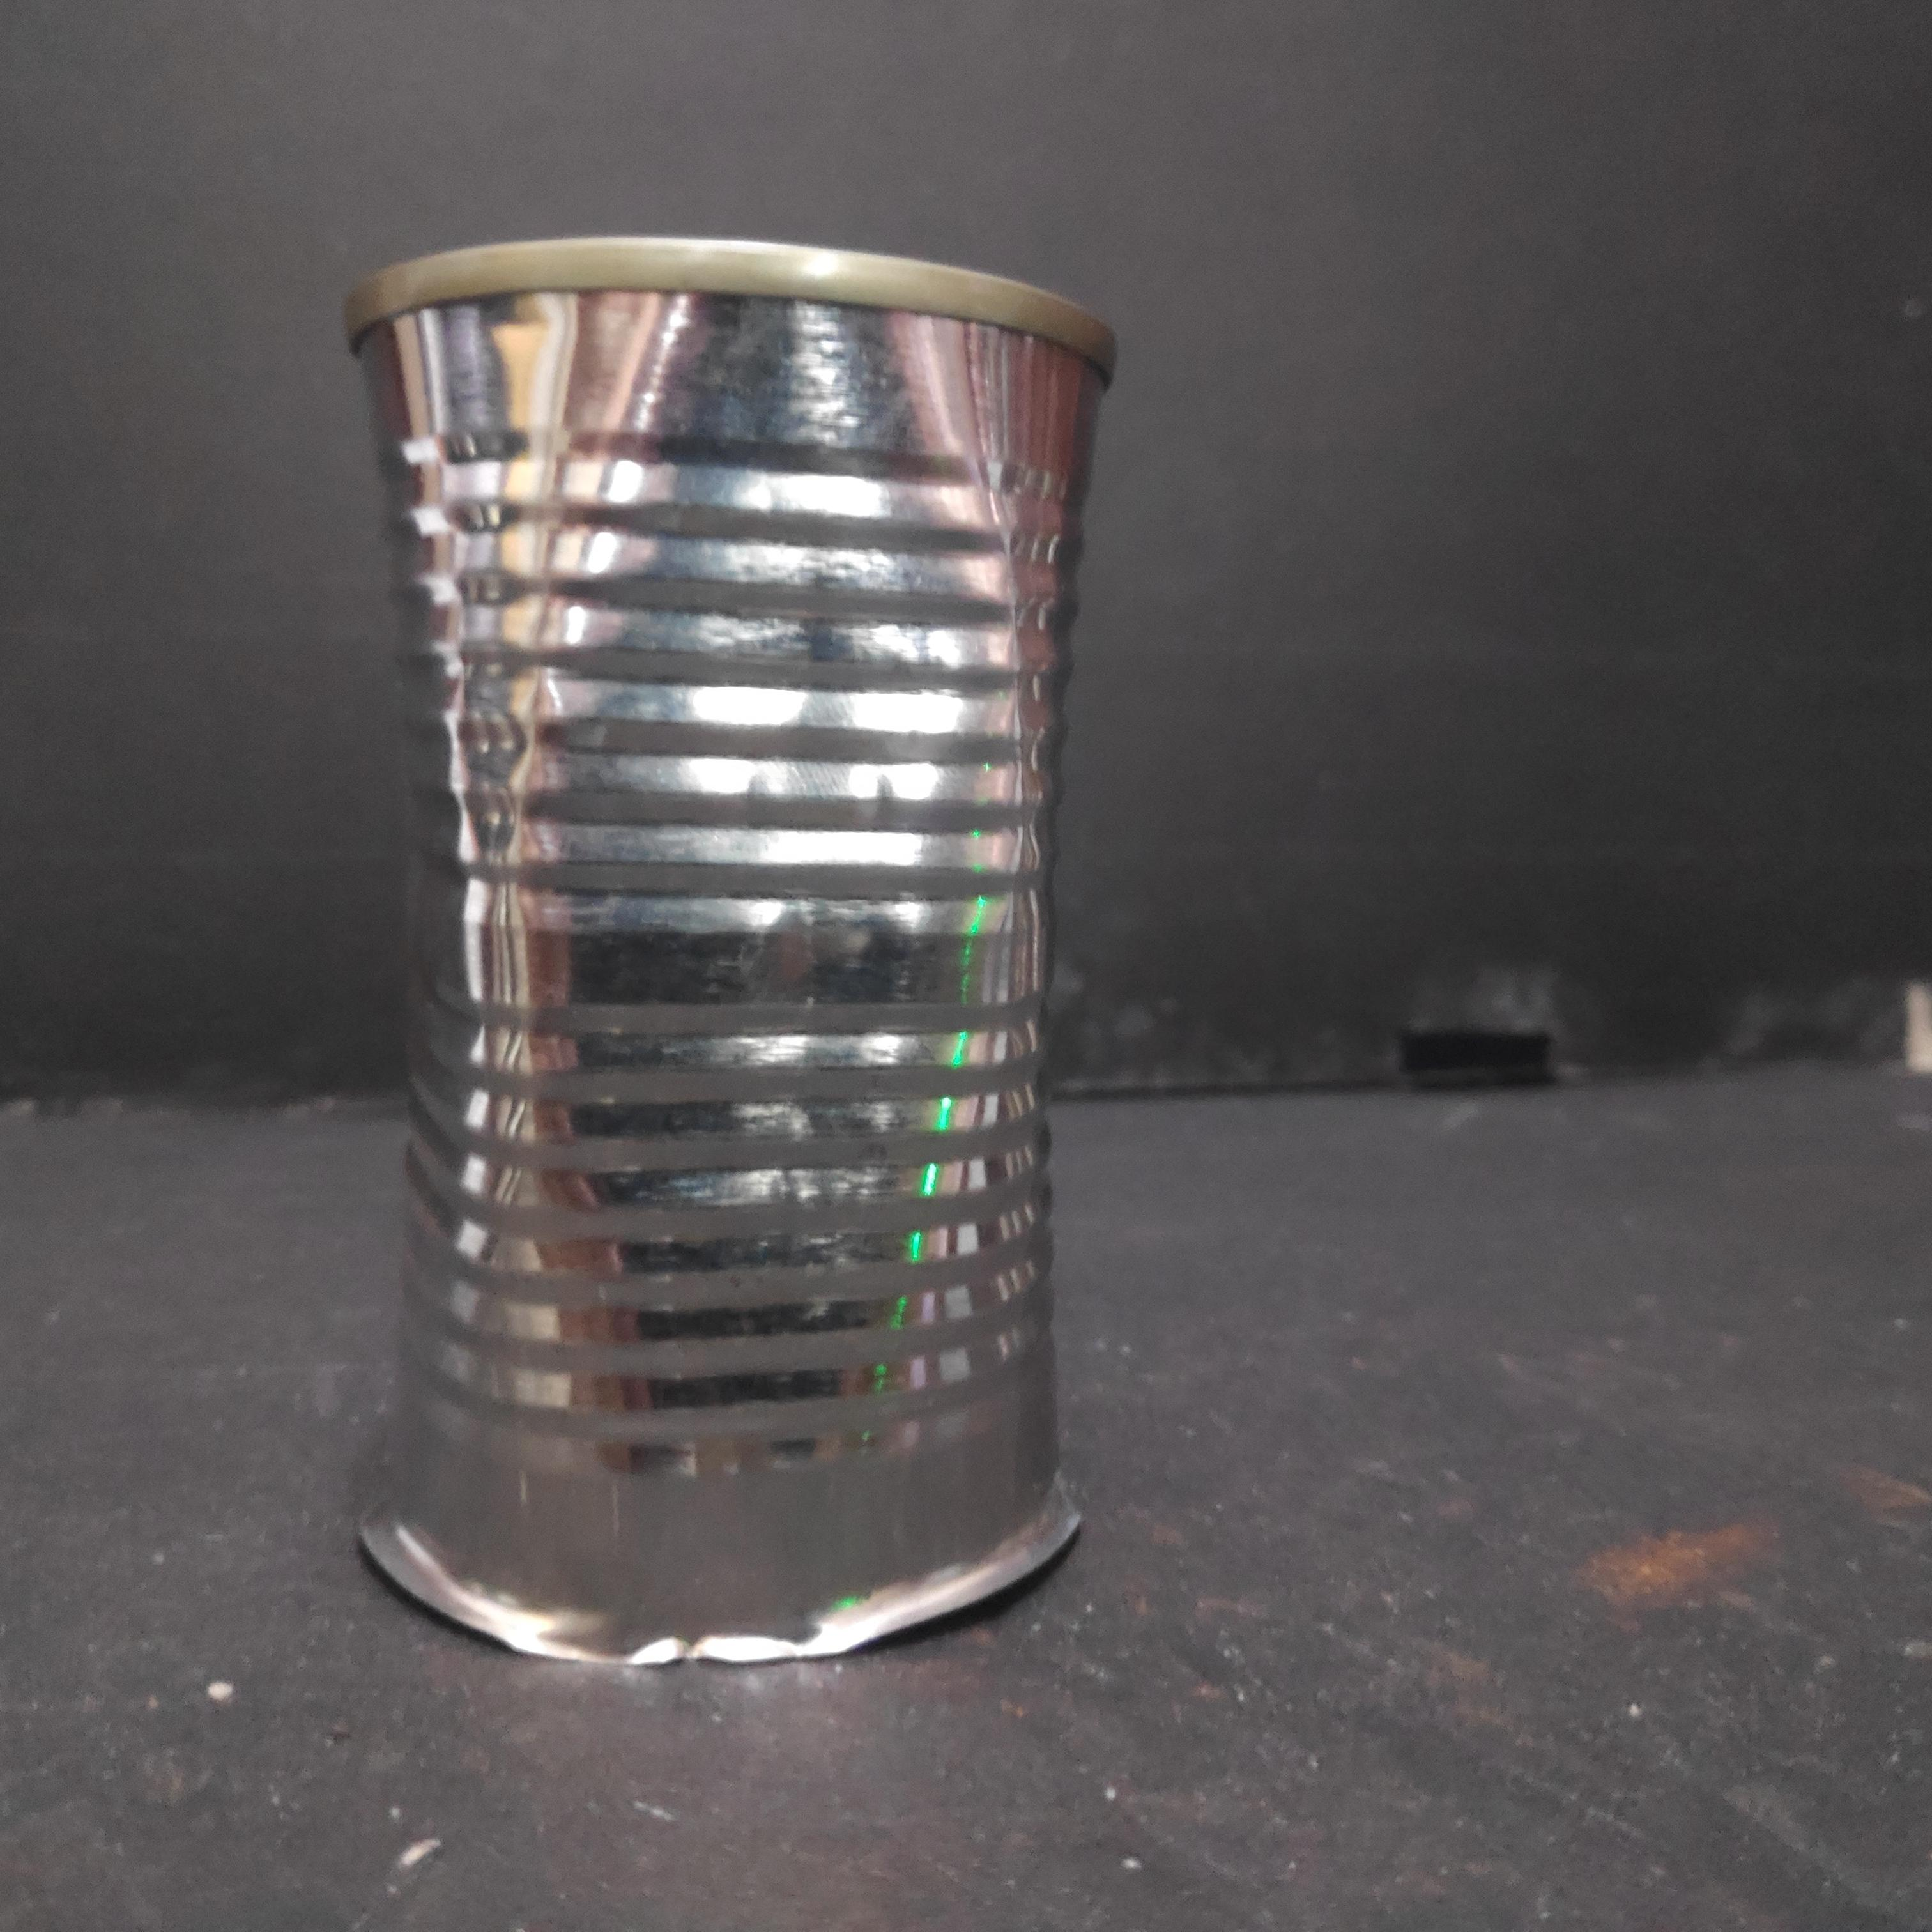Minor Defect: (333, 209, 1122, 1695)
